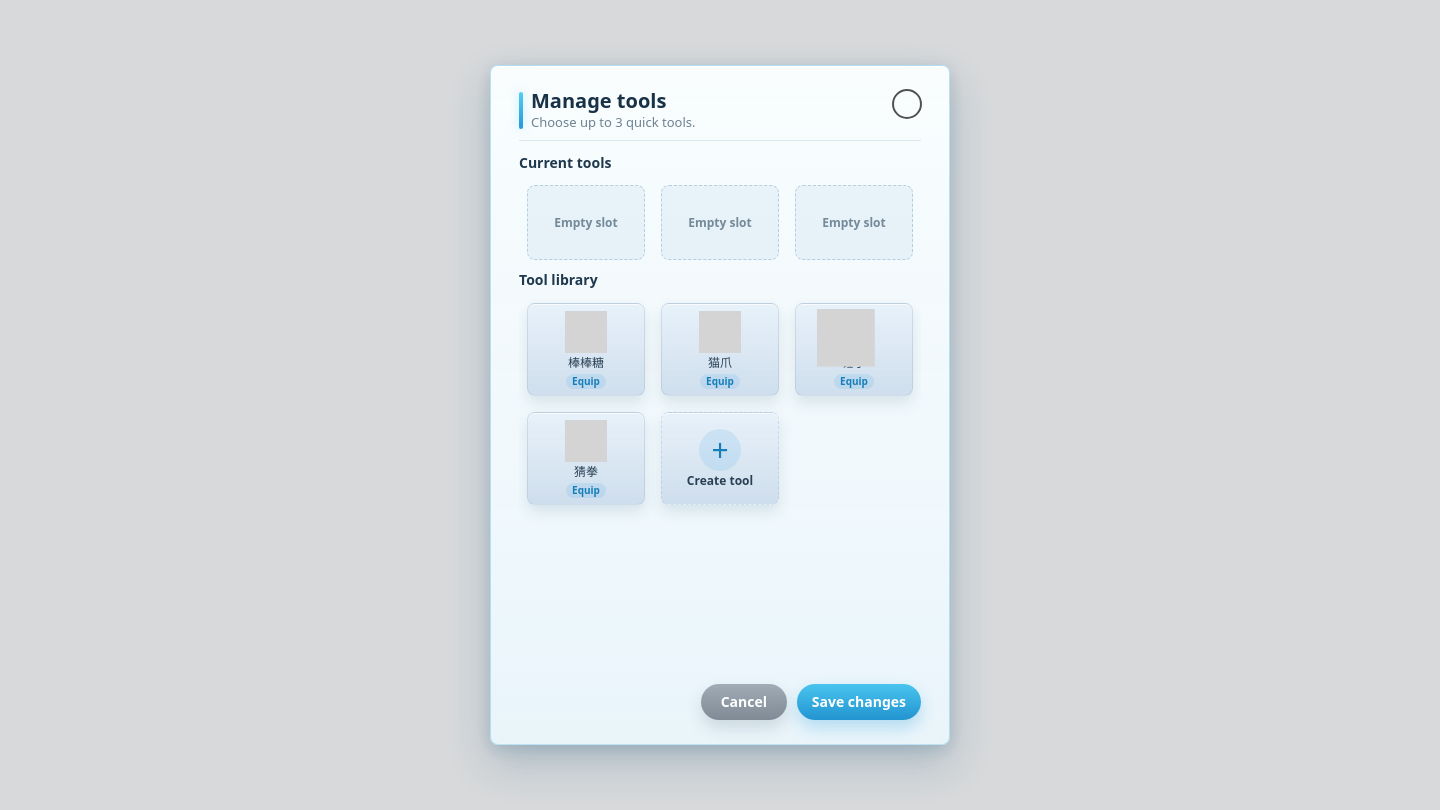
Test case: AvatarToolItemManager local creation › keeps the inline Web fallback when the shared chat template only has its static class
What coordinates should you click on to do the following:
click the button "+ Create tool"
I would click on:
 (720, 459)
Its box is x1=661 y1=412 x2=779 y2=505.
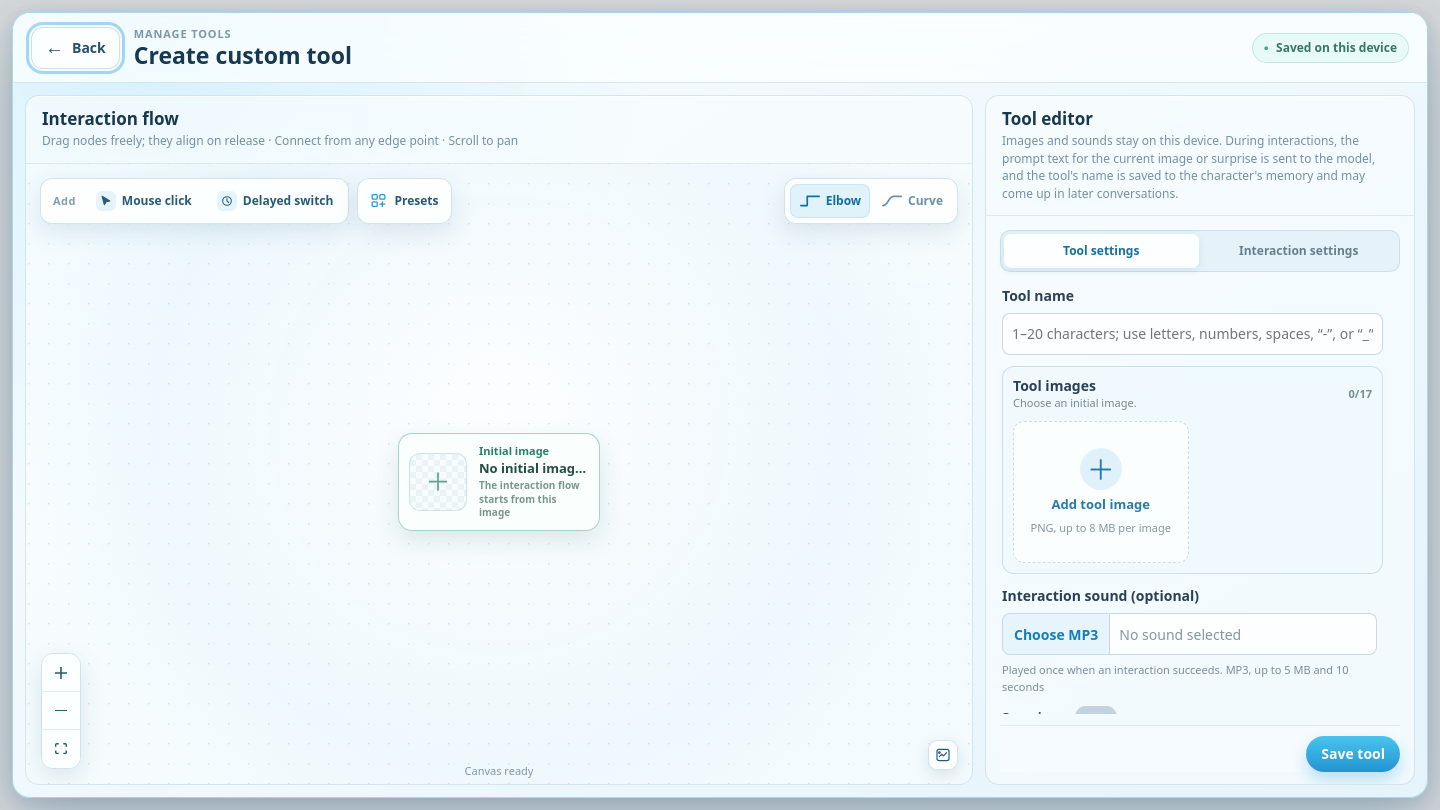
expect the dialog "Create custom tool" is shown: met
